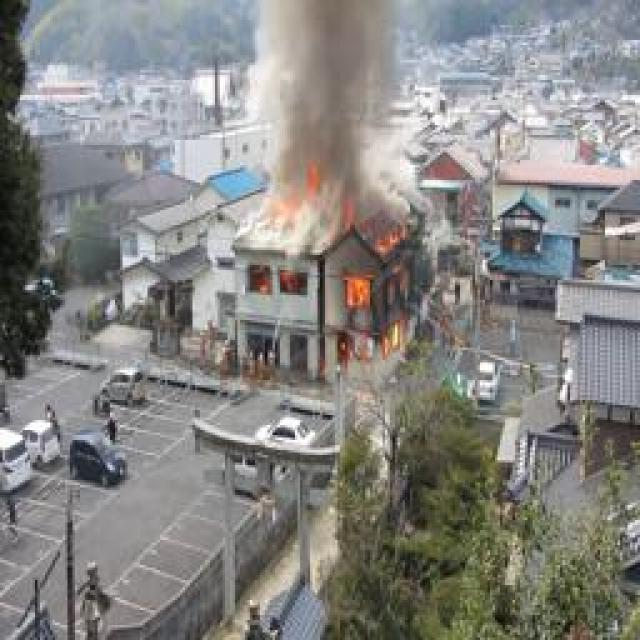Fire: (336, 228, 418, 363)
